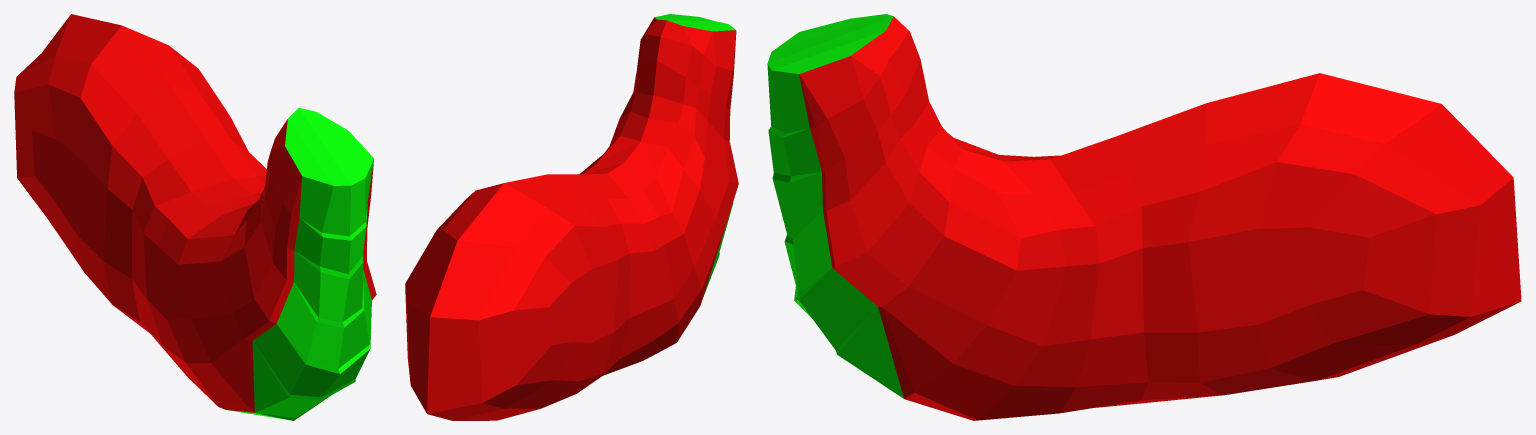
Rendered from Mo_Snat_Body.fbx.
The picture shows the model from 3 angles, left to right: view 1: azimuth 30°, elevation 25°; view 2: azimuth 150°, elevation 25°; view 3: azimuth 270°, elevation 25°; orthographic projection. The views are drawn at different scales.
Visible parts, largest first — view 1: Body.001; view 2: Body.001; view 3: Body.001.
Part boxes in pixels (box(x1,y1,x2,y2)): Body.001: box(14, 14, 376, 420); Body.001: box(405, 14, 738, 420); Body.001: box(767, 14, 1521, 420).
Bounding box in the file's own units: 186 × 416 × 720.
